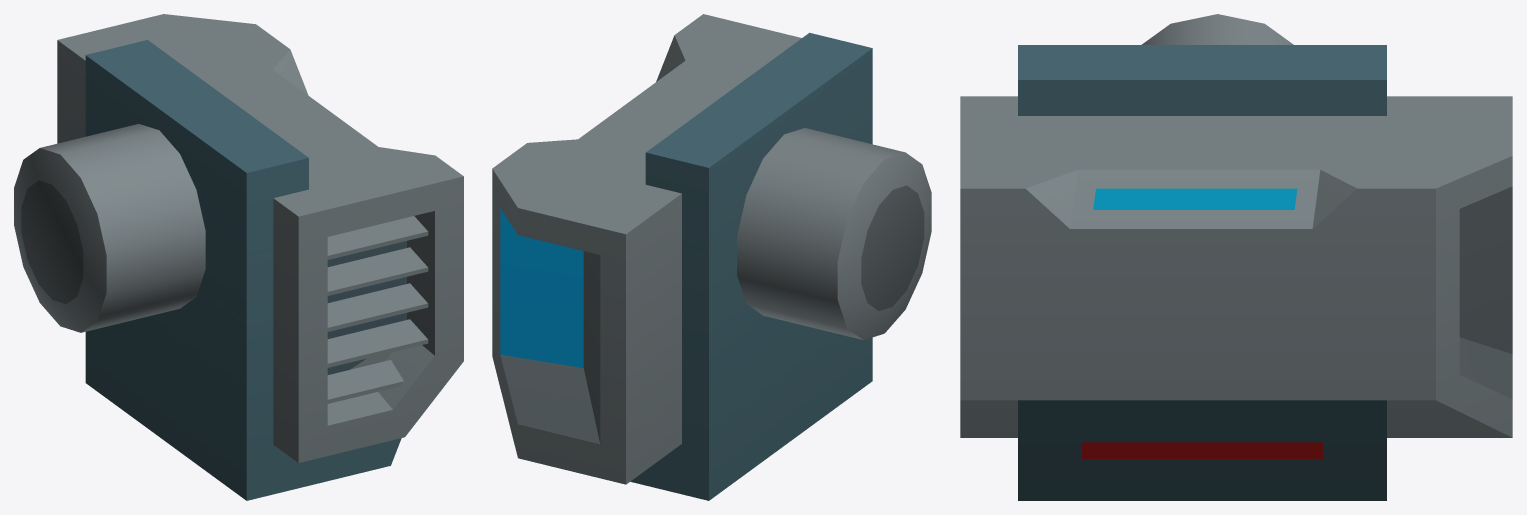
The model's file is Cargo_drone_002_engine_004.fbx.
3 renders of one model, left to right at view 1: azimuth 30°, elevation 25°; view 2: azimuth 150°, elevation 25°; view 3: azimuth 270°, elevation 25°, orthographic. The views are drawn at different scales.
Visible parts, largest first — view 1: Cargo_drone_002_engine_004; view 2: Cargo_drone_002_engine_004; view 3: Cargo_drone_002_engine_004.
Boxes of the visible parts, x1,y1,x2,y2 form: Cargo_drone_002_engine_004: (14, 14, 463, 500); Cargo_drone_002_engine_004: (492, 14, 931, 500); Cargo_drone_002_engine_004: (960, 14, 1512, 500).
Size of the model in its own units: 37.32 by 52.18 by 39.11.
